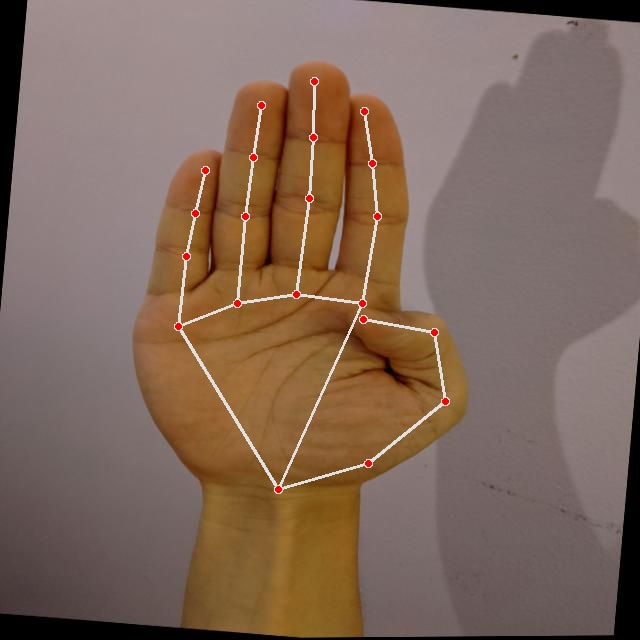B: (98, 32, 513, 527)
